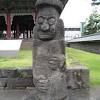Stone Statue: (25, 1, 72, 100)
